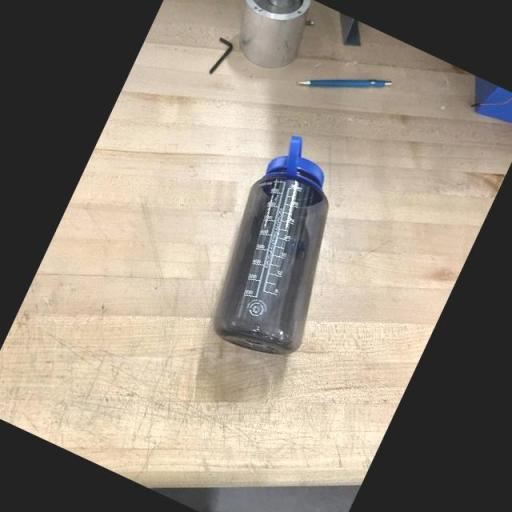bottle: (187, 126, 381, 372)
